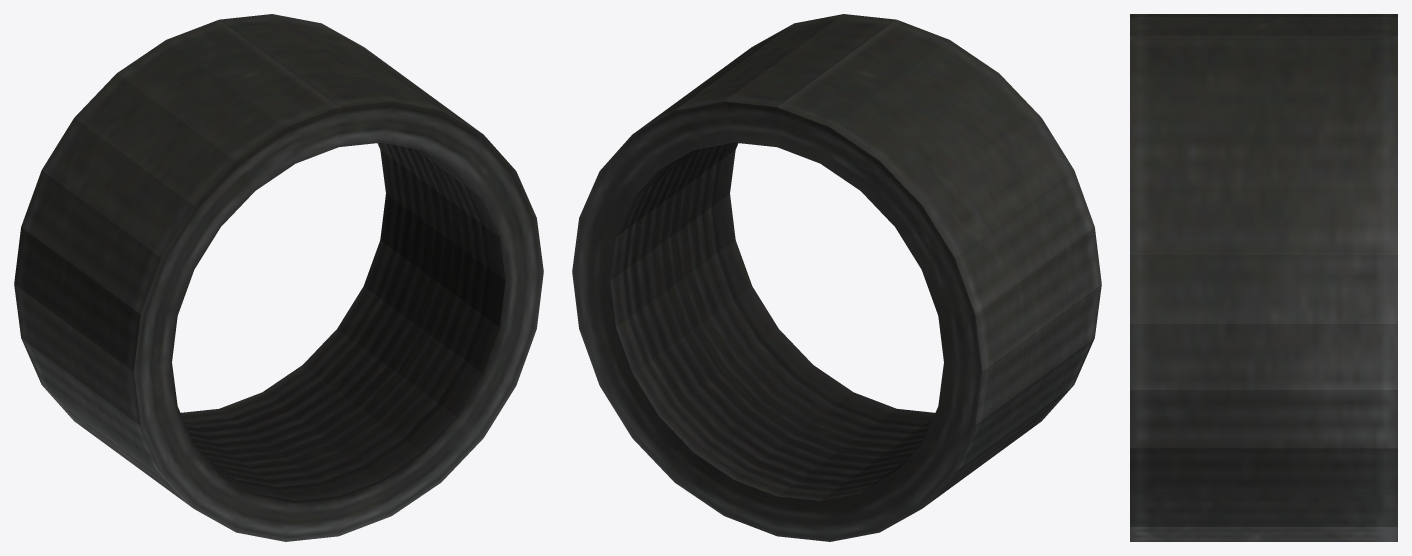
3 renders of one model, left to right at view 1: azimuth 30°, elevation 25°; view 2: azimuth 150°, elevation 25°; view 3: azimuth 270°, elevation 25°, orthographic. The views are drawn at different scales.
Parts seen in each view (by area): view 1: TW_5fb6548dd1409e5ca04b54f9_PZ_Import; view 2: TW_5fb6548dd1409e5ca04b54f9_PZ_Import; view 3: TW_5fb6548dd1409e5ca04b54f9_PZ_Import.
Boxes of the visible parts, x1,y1,x2,y2 form: TW_5fb6548dd1409e5ca04b54f9_PZ_Import: (14,14,543,541); TW_5fb6548dd1409e5ca04b54f9_PZ_Import: (572,14,1101,541); TW_5fb6548dd1409e5ca04b54f9_PZ_Import: (1130,14,1397,541).
Bounding box in the file's own units: 0.0107 × 0.00543 × 0.0107.
1 material, 1 textured.
